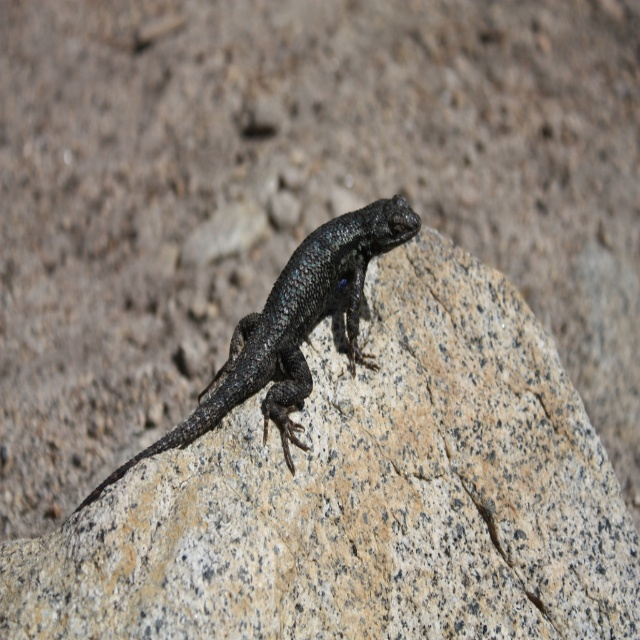Lizard: (120, 187, 434, 512)
